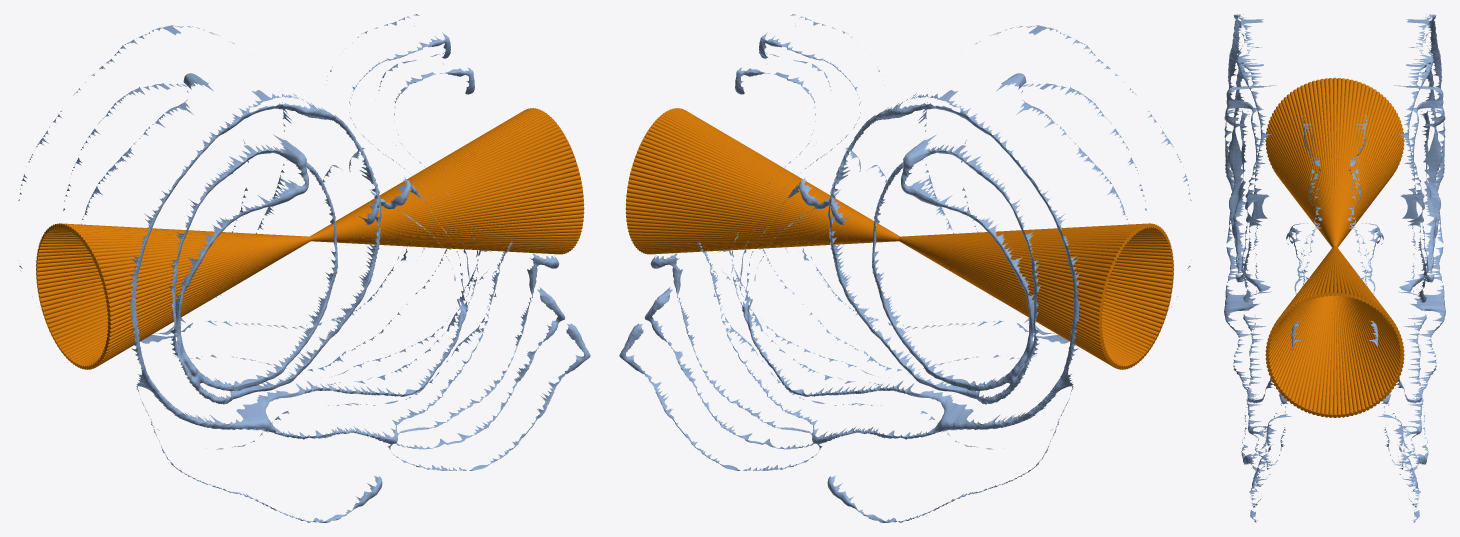
Rendered from A20016151_6145-37-520-5280_DigitalTwin.glb.
The picture shows the model from 3 angles, left to right: view 1: azimuth 30°, elevation 25°; view 2: azimuth 150°, elevation 25°; view 3: azimuth 270°, elevation 25°; orthographic projection. The views are drawn at different scales.
Parts seen in each view (by area): view 1: world; view 2: world; view 3: world.
Part boxes in pixels (<box>): world: <box>18,14,590,522</box>; world: <box>619,14,1191,522</box>; world: <box>1224,14,1445,522</box>.
Size of the model in its own units: 473 by 418 by 206.
